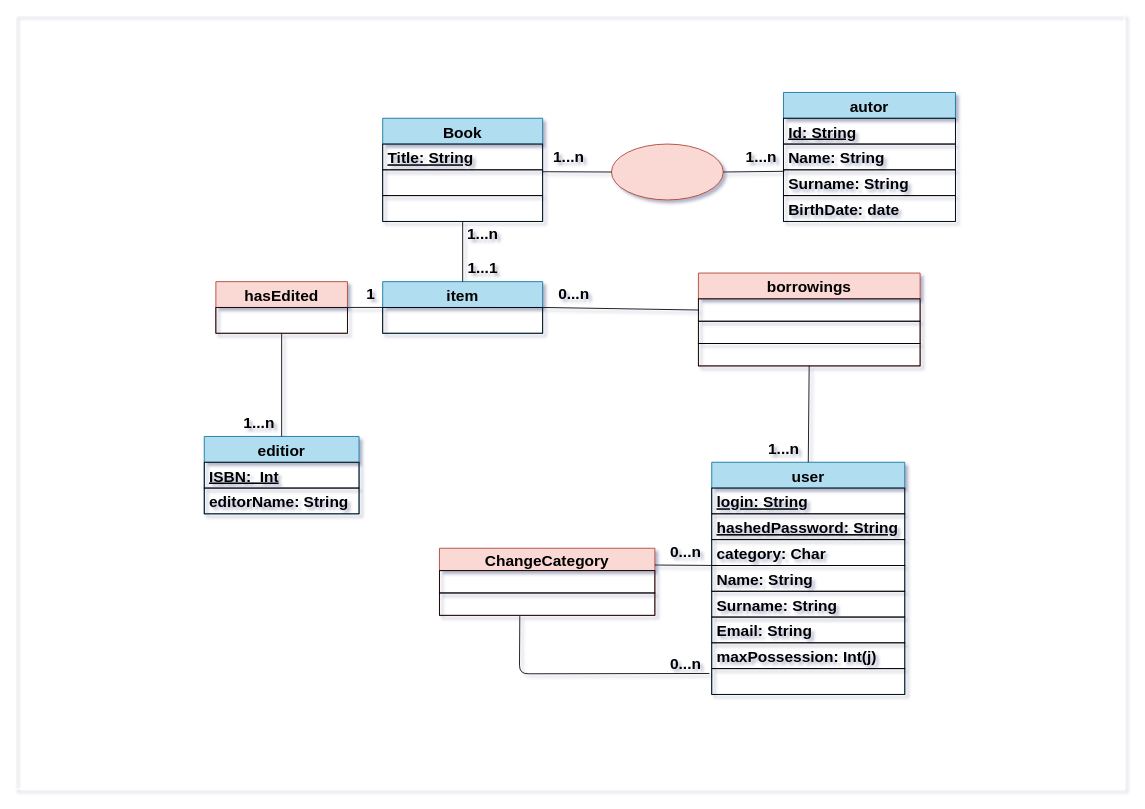
This 1145x809 diagram has some shape labels left out. The centre of each missing label's shape, as x and y in pixels:
BoorowingDate: mm/dd/yy: [809,309]
changingDate: mm/dd/yy: [547,581]
description: String: [462,208]
FirstEditionYear: Int: [462,182]
giveBackDate: mm/dd/yy: [809,354]
hasWriten: [667,171]
Id: Int: [462,320]
limitDate: mm/dd/yy: [809,332]
maxBorrowing: Int: [808,681]
newUserCategory: Char: [547,603]
Year: Int: [281,320]
